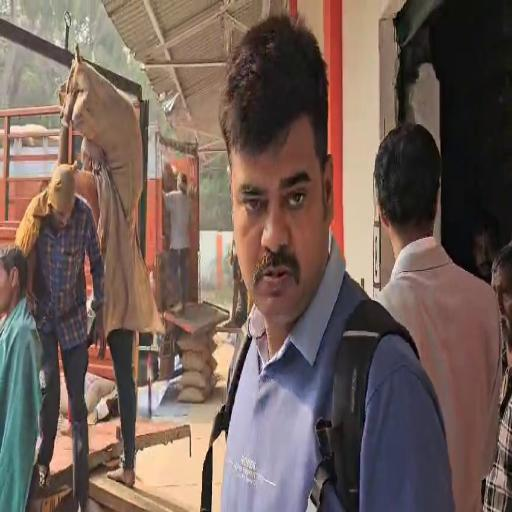bag: (60, 42, 146, 221)
